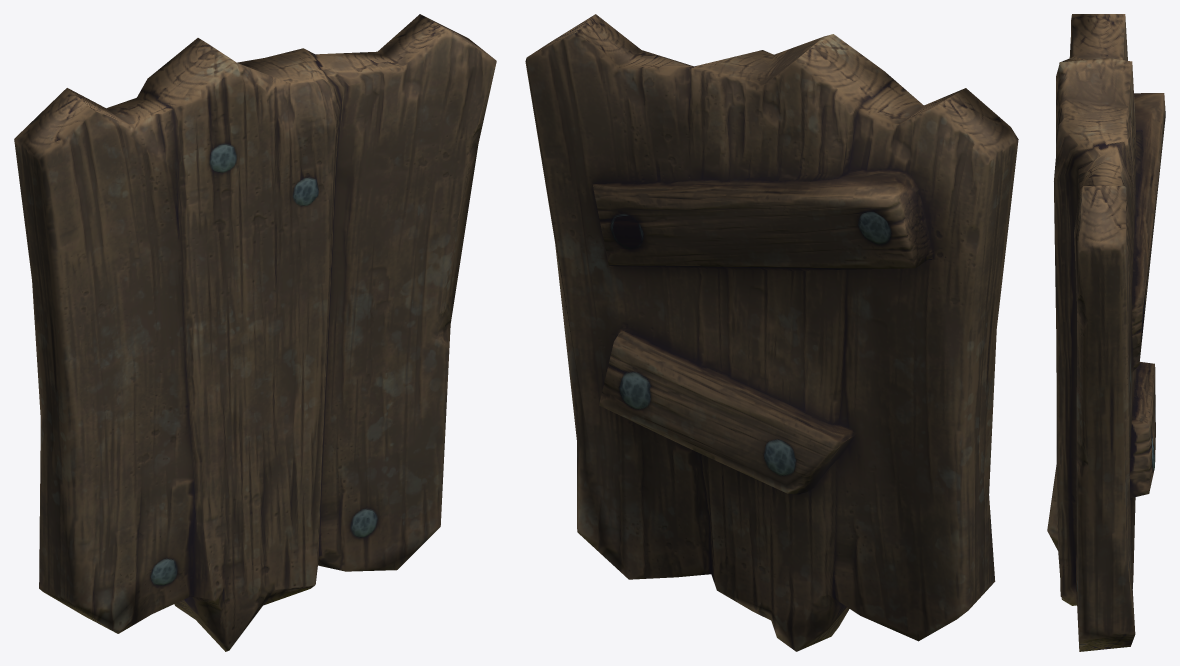
The model's file is S_MVillage_Signs_02_Broken_B.fbx.
3 views of the same model, side by side, from view 1: azimuth 30°, elevation 25°; view 2: azimuth 150°, elevation 25°; view 3: azimuth 270°, elevation 25° (orthographic). The views are drawn at different scales.
Visible parts, largest first — view 1: S_MVillage_Signs_02_Broken_B_LOD0; view 2: S_MVillage_Signs_02_Broken_B_LOD0; view 3: S_MVillage_Signs_02_Broken_B_LOD0.
Boxes of the visible parts, left/top/right/bottom form: S_MVillage_Signs_02_Broken_B_LOD0: left=14, top=14, right=496, bottom=651; S_MVillage_Signs_02_Broken_B_LOD0: left=525, top=14, right=1018, bottom=651; S_MVillage_Signs_02_Broken_B_LOD0: left=1047, top=14, right=1165, bottom=651.
Size of what is drawn, in the model's own units: 109 by 133 by 26.11.
